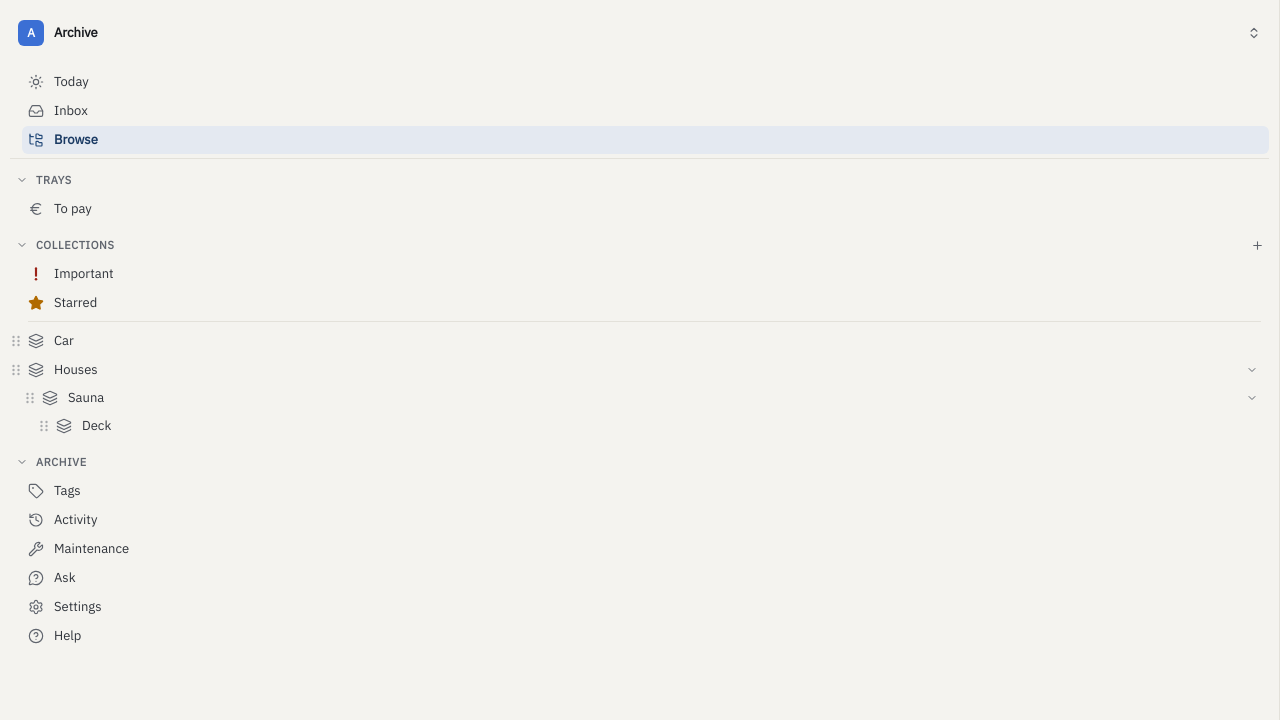
Test: Sidebar collection tree › works without storage (a private window): folds still toggle
expect the link "Sauna" is shown: met, box x1=25 y1=389 x2=104 y2=406
Click the button named "Collections in Houses": (1252, 370) x1=1239 y1=357 x2=1265 y2=383
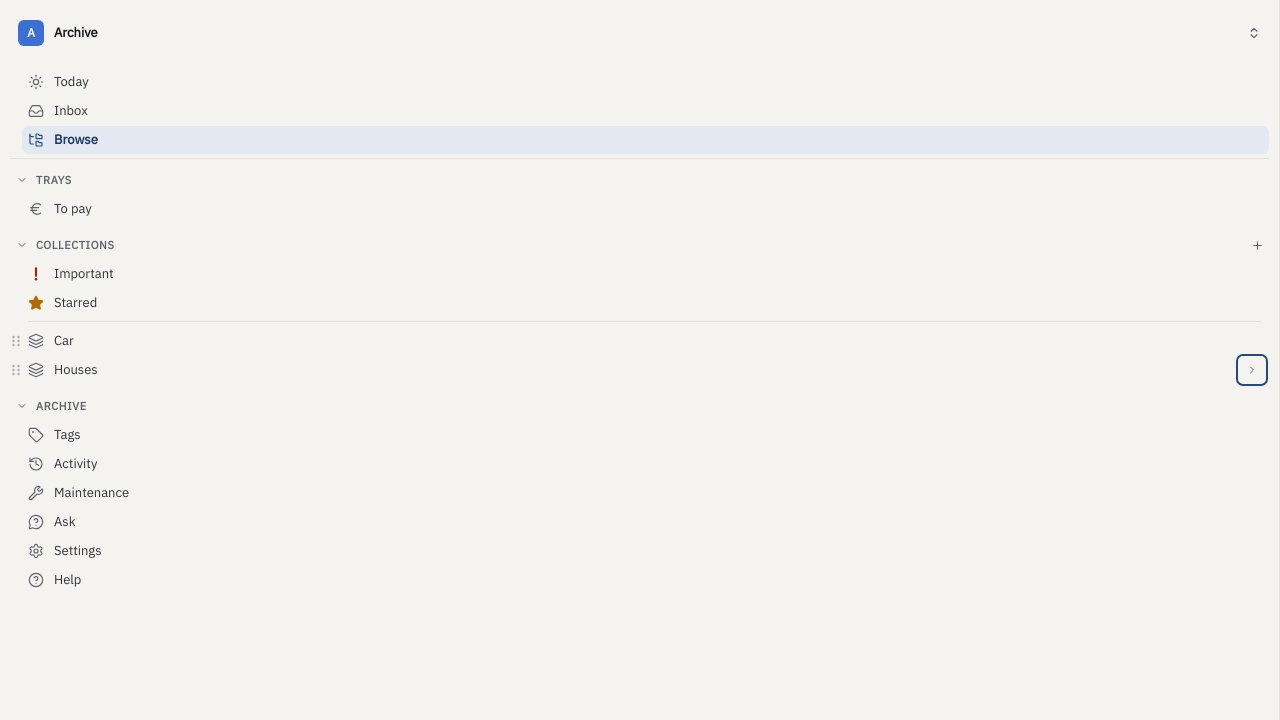
expect the link "Sauna" is gone: met
